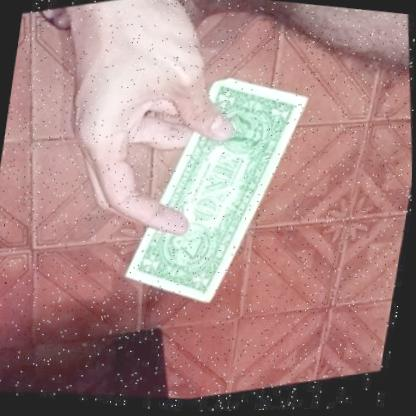one-back: (81, 41, 353, 342)
